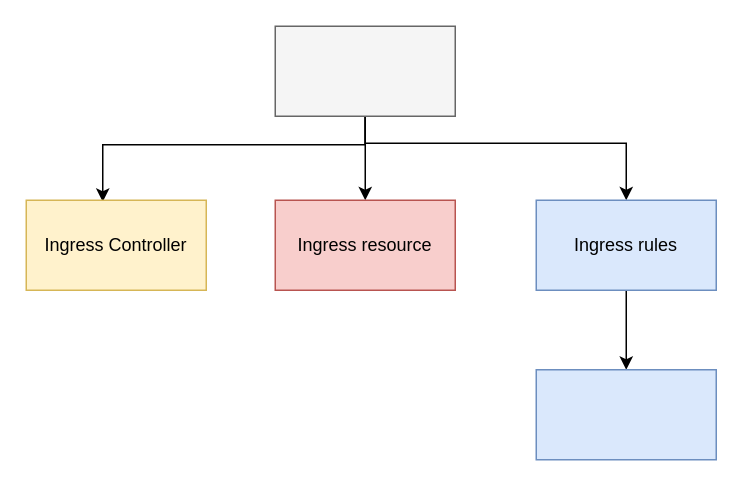
Image size: 743x486. Some labels were removed from this diagram. The centre of each missing label's shape, as x and y in pixels:
"ALB Ingress" belongs at (364,70).
"Default backend" belongs at (625,414).
